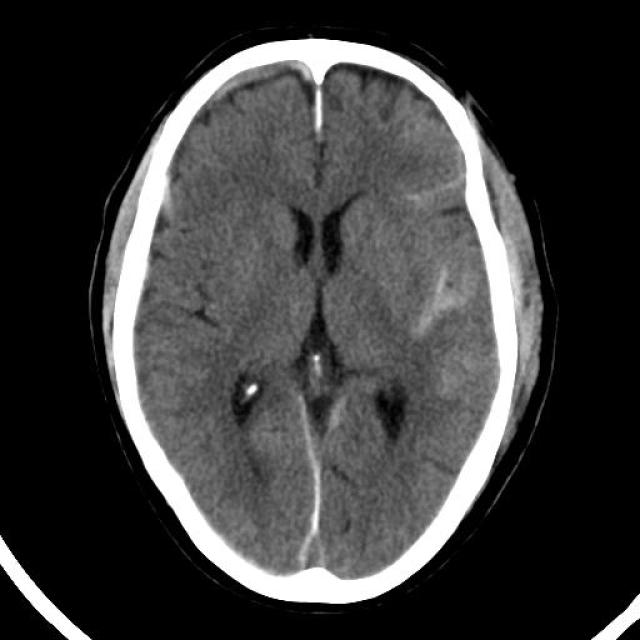Subarachnoid: (408, 264, 487, 415), (154, 167, 192, 245)
Subdural: (265, 400, 364, 591), (174, 52, 321, 152)
